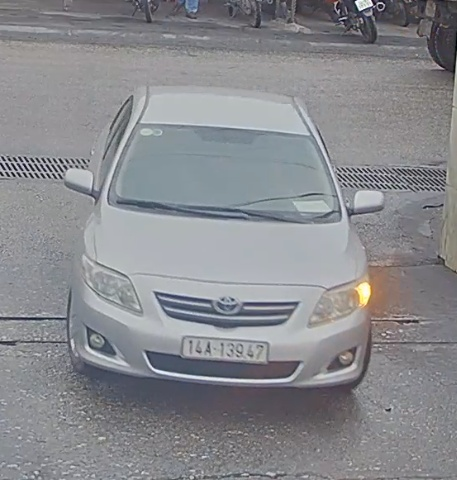vehicle plate: (179, 329, 268, 370)
